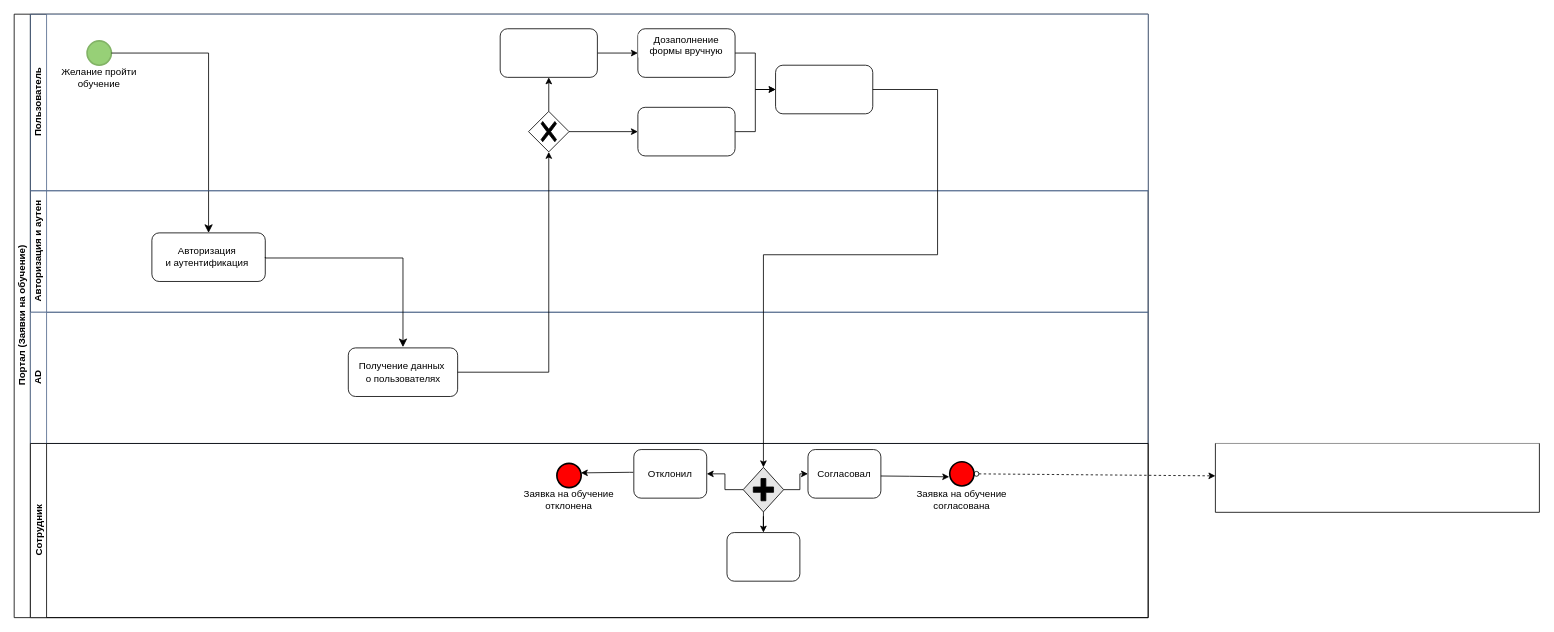
This 1554x632 diagram has some shape labels left out. The centre of each missing label's shape, as x and y in pixels:
"Загрузка файла со списком людей на обучение" belongs at point 548,52.
"Заполнение формы вручную" belongs at point 686,131.
"Отправил на доработку" belongs at point 763,556.
"Отправка формы на согласование" belongs at point 824,89.
"Система дистанционного обучения (СДО)" belongs at point 1377,477.
